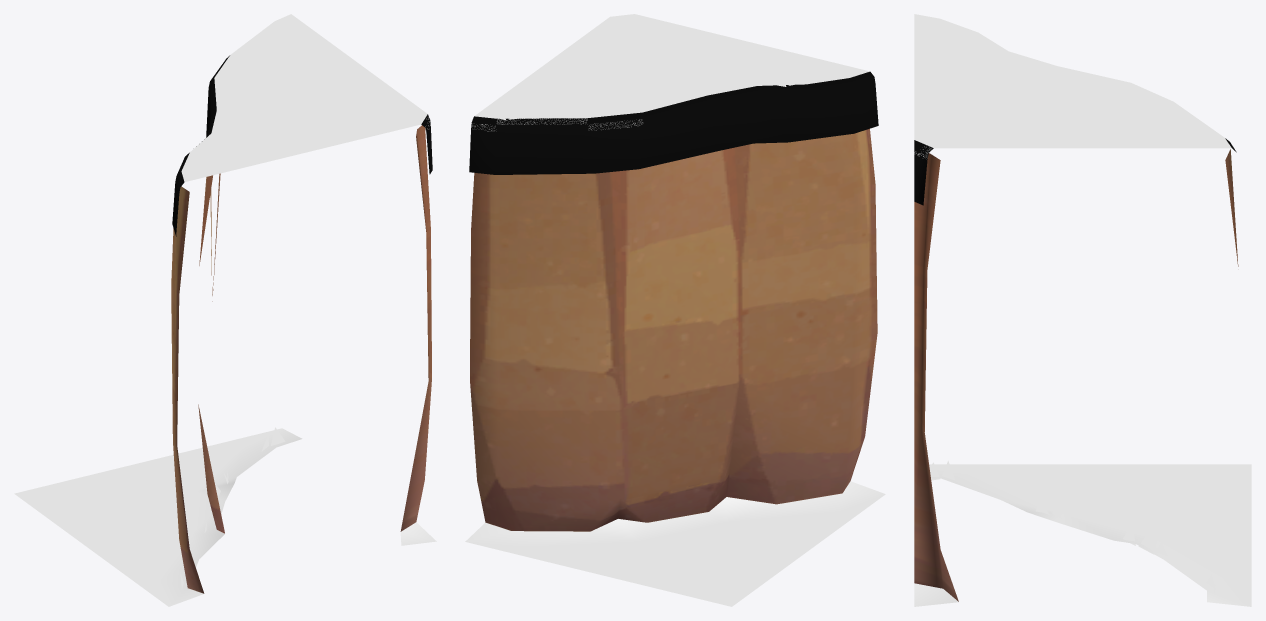
The picture shows the model from 3 angles, left to right: view 1: azimuth 30°, elevation 25°; view 2: azimuth 150°, elevation 25°; view 3: azimuth 270°, elevation 25°; orthographic projection. The views are drawn at different scales.
Visible parts, largest first — view 1: GrassT__mGrass, GrassB_1__mGrass, CliffThin__mCliff, GrassOP_1__mGrassCliffXlu; view 2: CliffThin__mCliff, GrassOP_1__mGrassCliffXlu, GrassB_1__mGrass, GrassT__mGrass; view 3: GrassT__mGrass, GrassB_1__mGrass, CliffThin__mCliff, PGrassBD__mProcGrass, GrassOP_1__mGrassCliffXlu.
Part boxes in pixels (<box>): GrassT__mGrass: <box>181,14,430,181</box>; GrassB_1__mGrass: <box>14,428,436,606</box>; CliffThin__mCliff: <box>171,125,431,593</box>; GrassOP_1__mGrassCliffXlu: <box>172,55,432,236</box>; CliffThin__mCliff: <box>470,128,877,531</box>; GrassOP_1__mGrassCliffXlu: <box>469,71,878,174</box>; GrassB_1__mGrass: <box>465,481,885,606</box>; GrassT__mGrass: <box>472,14,869,131</box>; GrassT__mGrass: <box>914,14,1231,157</box>; GrassB_1__mGrass: <box>914,464,1251,606</box>; CliffThin__mCliff: <box>914,149,1238,601</box>; PGrassBD__mProcGrass: <box>929,460,1216,594</box>; GrassOP_1__mGrassCliffXlu: <box>914,138,1236,205</box>.
Bounding box in the file's own units: 10 × 15.4 × 10.
4 materials, 1 textured.
